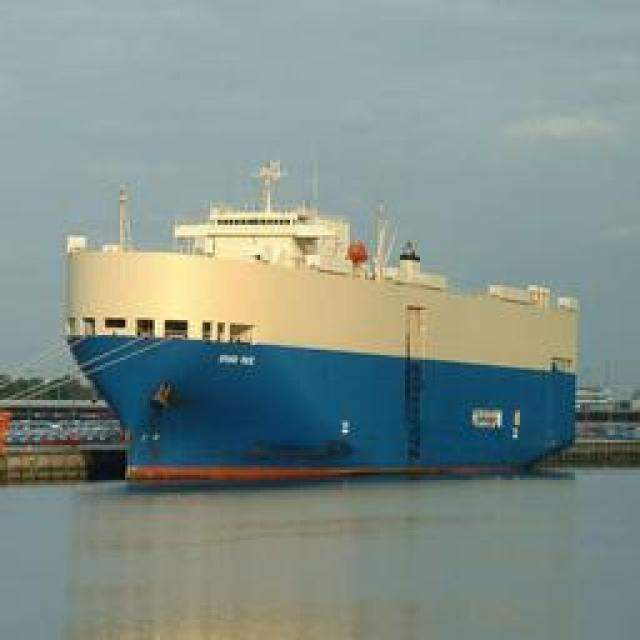ship2: (62, 160, 582, 490)
